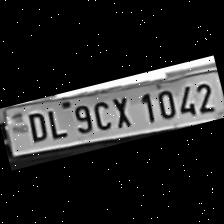0: (150, 84, 177, 120)
1: (130, 86, 158, 125)
2: (188, 76, 216, 114)
4: (170, 80, 197, 116)
9: (66, 99, 94, 135)
C: (88, 94, 114, 130)
D: (21, 106, 49, 144)
L: (41, 102, 70, 140)
X: (105, 90, 136, 130)
